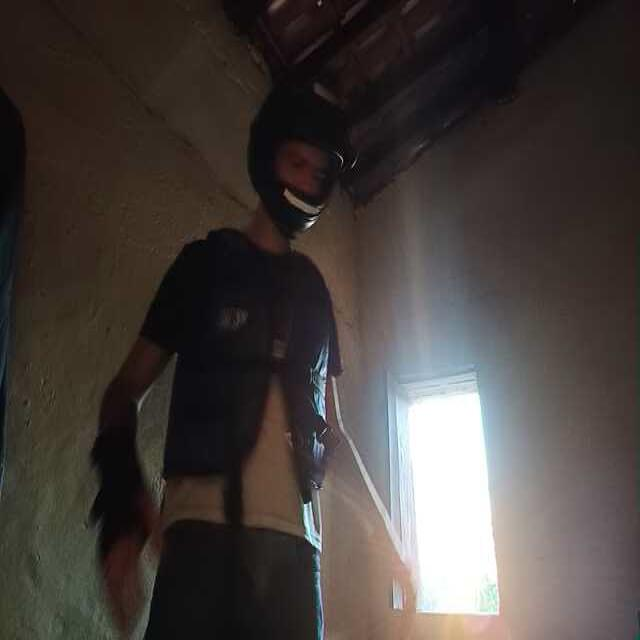capacete: (255, 76, 361, 227)
colete: (175, 232, 338, 501)
pessoa: (99, 129, 396, 640)
